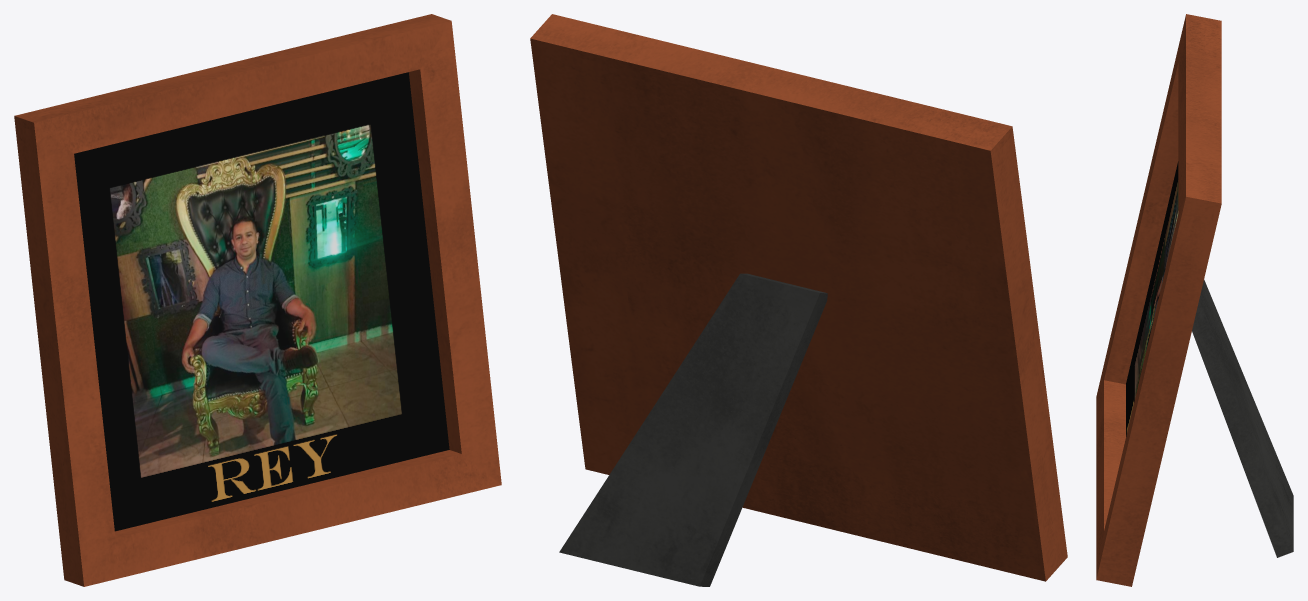
Rendered from Marco_text (1).fbx.
3 views of the same model, side by side, from view 1: azimuth 30°, elevation 25°; view 2: azimuth 150°, elevation 25°; view 3: azimuth 270°, elevation 25° (orthographic). The views are drawn at different scales.
Visible parts, largest first — view 1: Foto_geo, Marco_Iv_geo; view 2: Marco_Iv_geo; view 3: Marco_Iv_geo, Foto_geo.
Boxes of the visible parts, <box> form: Foto_geo: <box>74,72,449,531</box>; Marco_Iv_geo: <box>14,14,501,586</box>; Marco_Iv_geo: <box>530,14,1067,586</box>; Marco_Iv_geo: <box>1096,14,1293,586</box>; Foto_geo: <box>1126,161,1178,436</box>.
Size of the model in its own units: 14.76 by 14.7 by 6.74.
Materials: 2 (2 with a texture image).
